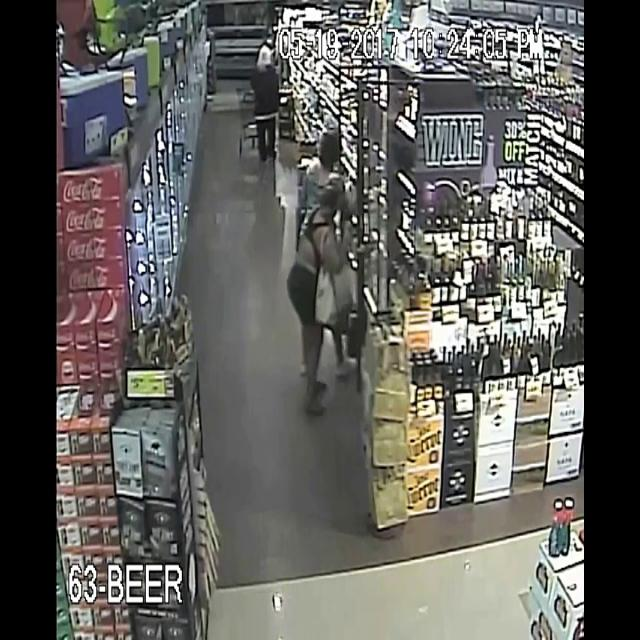normal: (281, 176, 373, 402), (243, 36, 290, 167), (298, 120, 352, 190)
